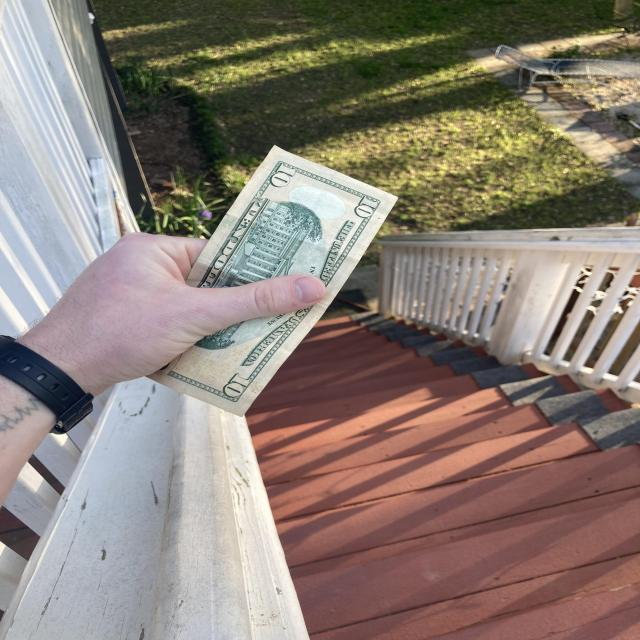ten: (130, 125, 400, 441)
